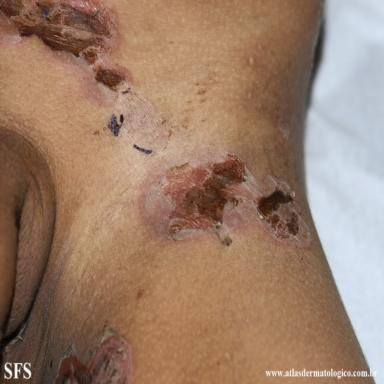Impetigo: (0, 0, 172, 155), (140, 152, 313, 249), (56, 328, 132, 383)
